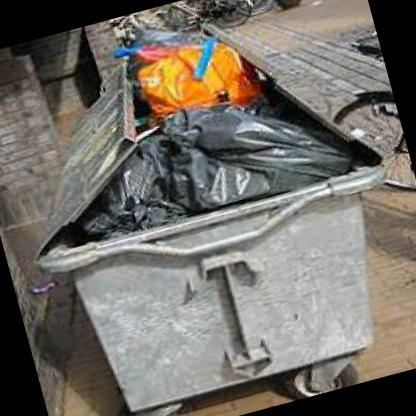Garbage: (126, 28, 284, 203), (155, 80, 335, 216), (112, 128, 284, 228), (116, 21, 240, 121)
